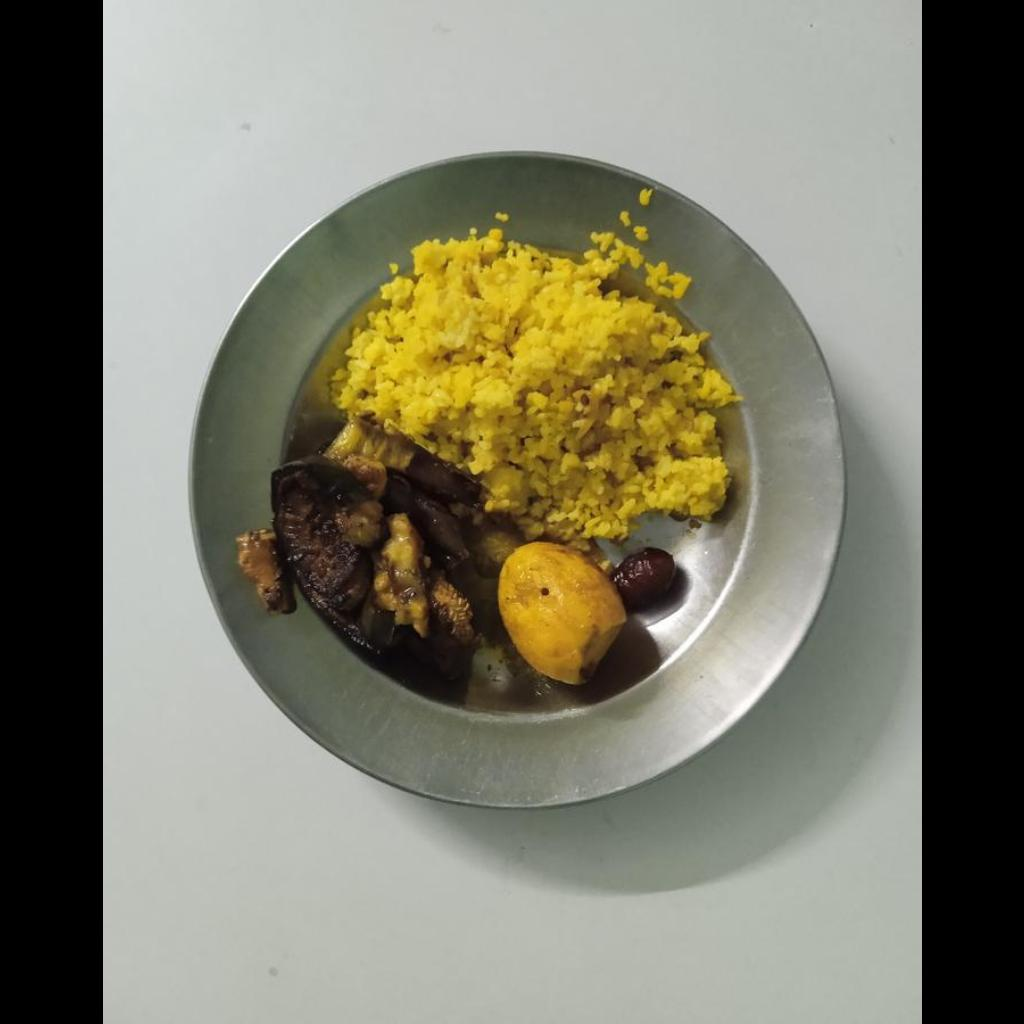begun-vaji: (236, 421, 522, 686)
dates: (611, 547, 675, 613)
egg-boiled: (498, 542, 624, 685)
khichuri: (338, 241, 739, 540)
